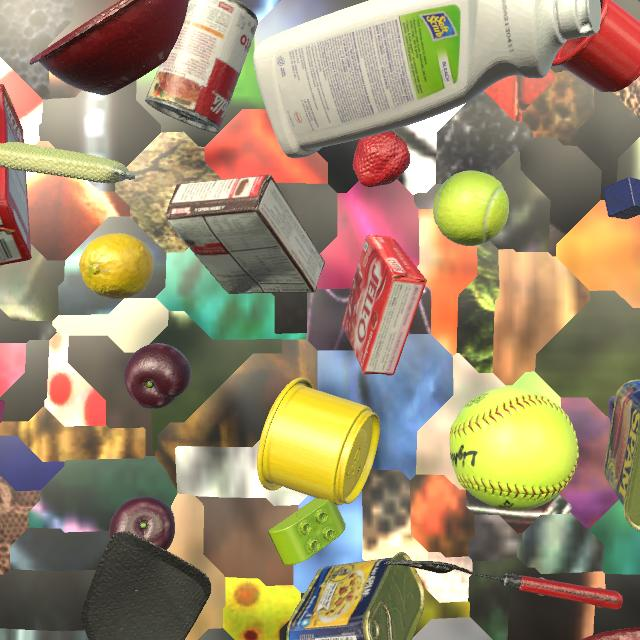ycb_003_cracker_box: (0, 84, 32, 265)
ycb_005_tomato_soup_can: (145, 0, 258, 133), (638, 0, 640, 2)
ycb_008_pudding_box: (166, 174, 325, 294)
ycb_009_gelatin_box: (342, 234, 427, 375)
ycb_010_potted_meat_can: (286, 552, 425, 640), (604, 379, 640, 531)
ycb_012_strawberry: (353, 131, 411, 187)
ycb_014_lemon: (79, 233, 154, 299)
ycb_018_plum: (124, 343, 191, 409), (109, 496, 175, 550)
